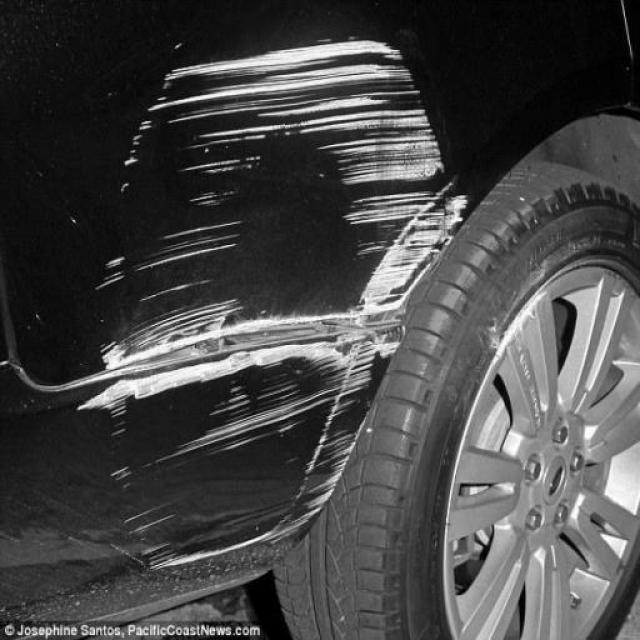scratch: (96, 38, 470, 369), (76, 338, 399, 571)
